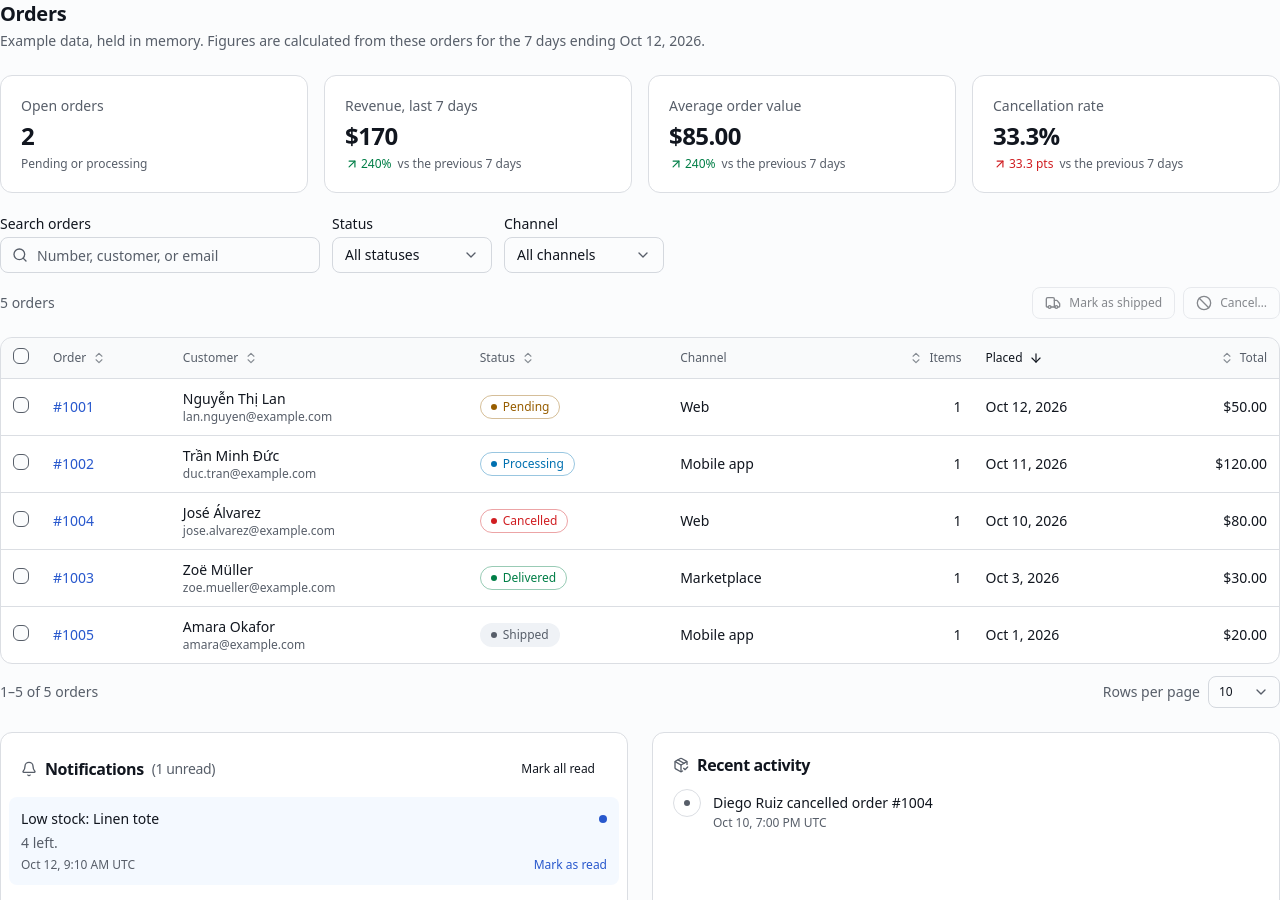
Scenario: OrdersDashboard › cancels only after confirmation, and keeps orders when dismissed
What coordinates should you click on to do the following:
click the checkbox named "Select order #1002"
I would click on:
 (21, 462)
Its box is [13,454,29,470].
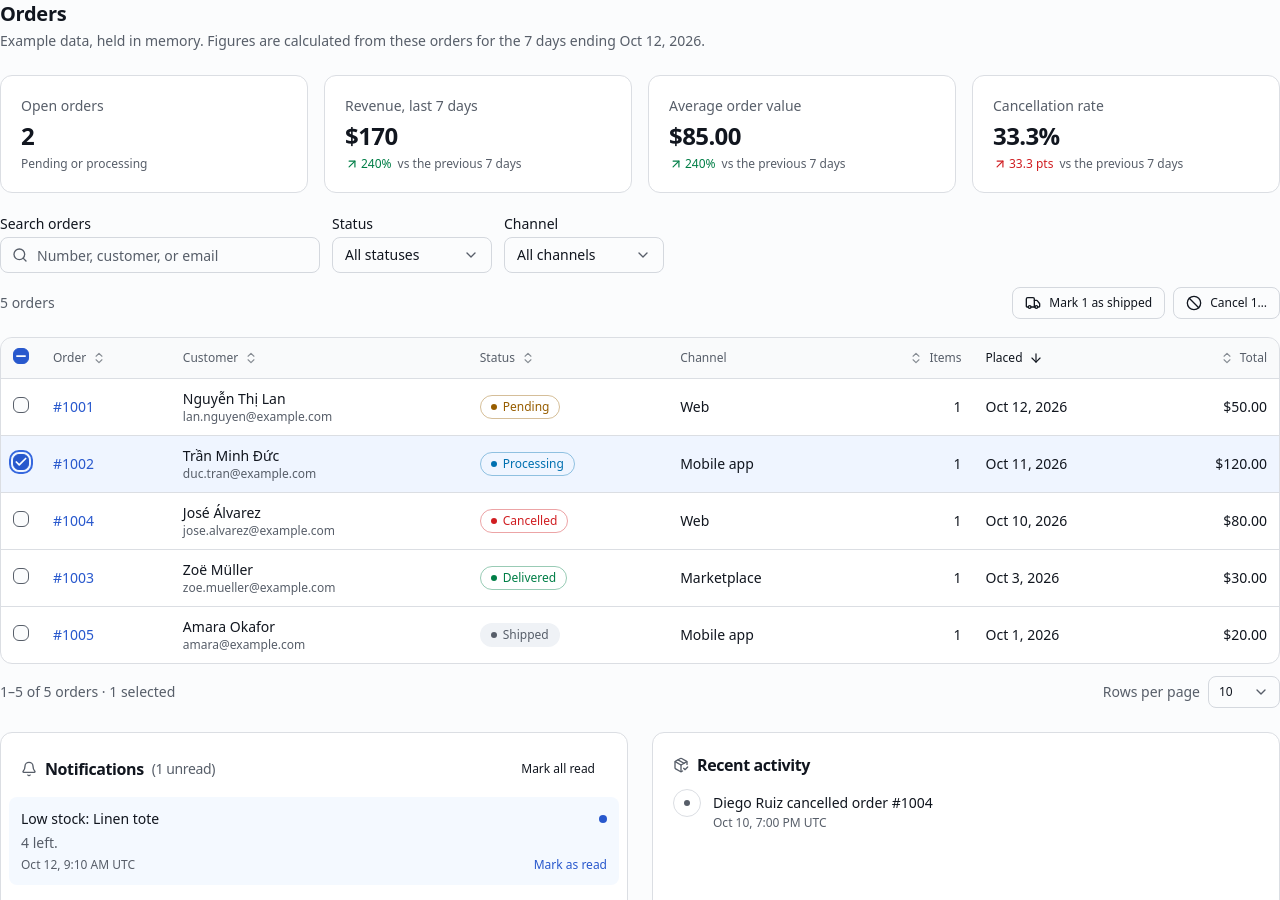
What coordinates should you click on to do the following:
click the button "Cancel 1…"
I would click on:
 (1227, 303)
Its box is [1173,287,1279,319].
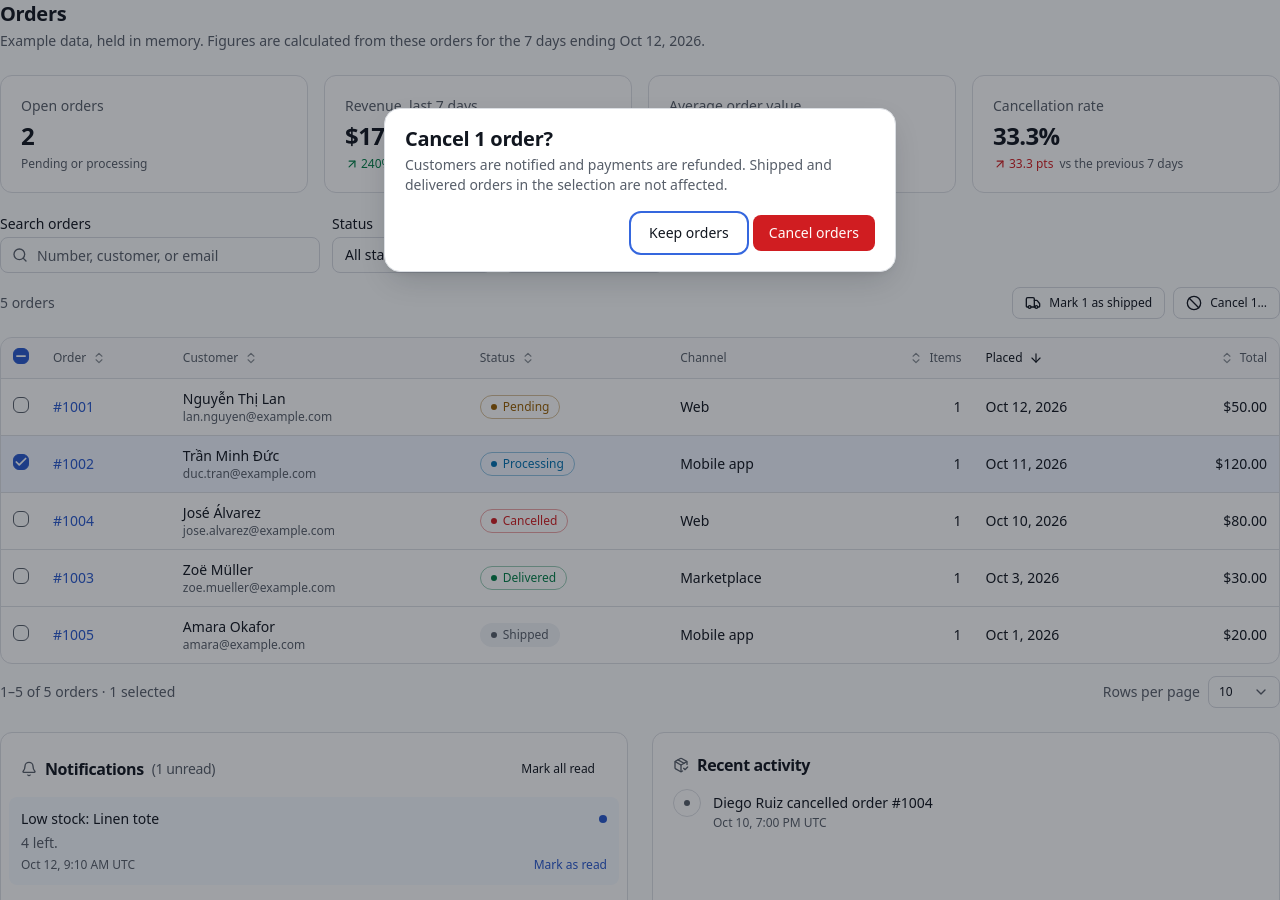
What coordinates should you click on to do the following:
click the button "Keep orders"
I would click on:
 (689, 233)
Its box is [633,215,745,251].
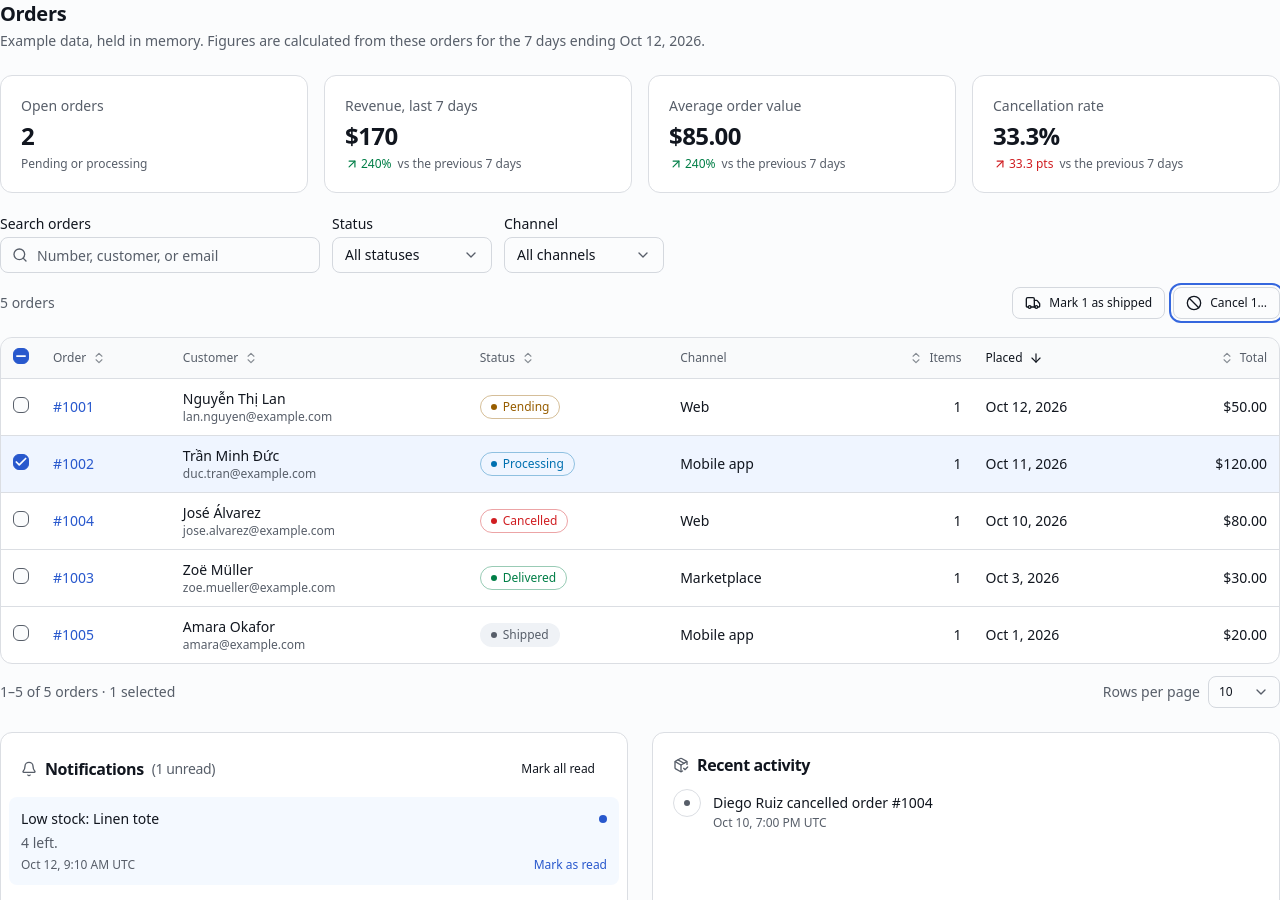
Expected: the row "#1002" shows "Processing", [503,454,564,472]
Expected: the dialog is gone
What coordinates should you click on to do the following:
click the button "Cancel 1…"
I would click on:
 (1227, 303)
Its box is [1173,287,1279,319].
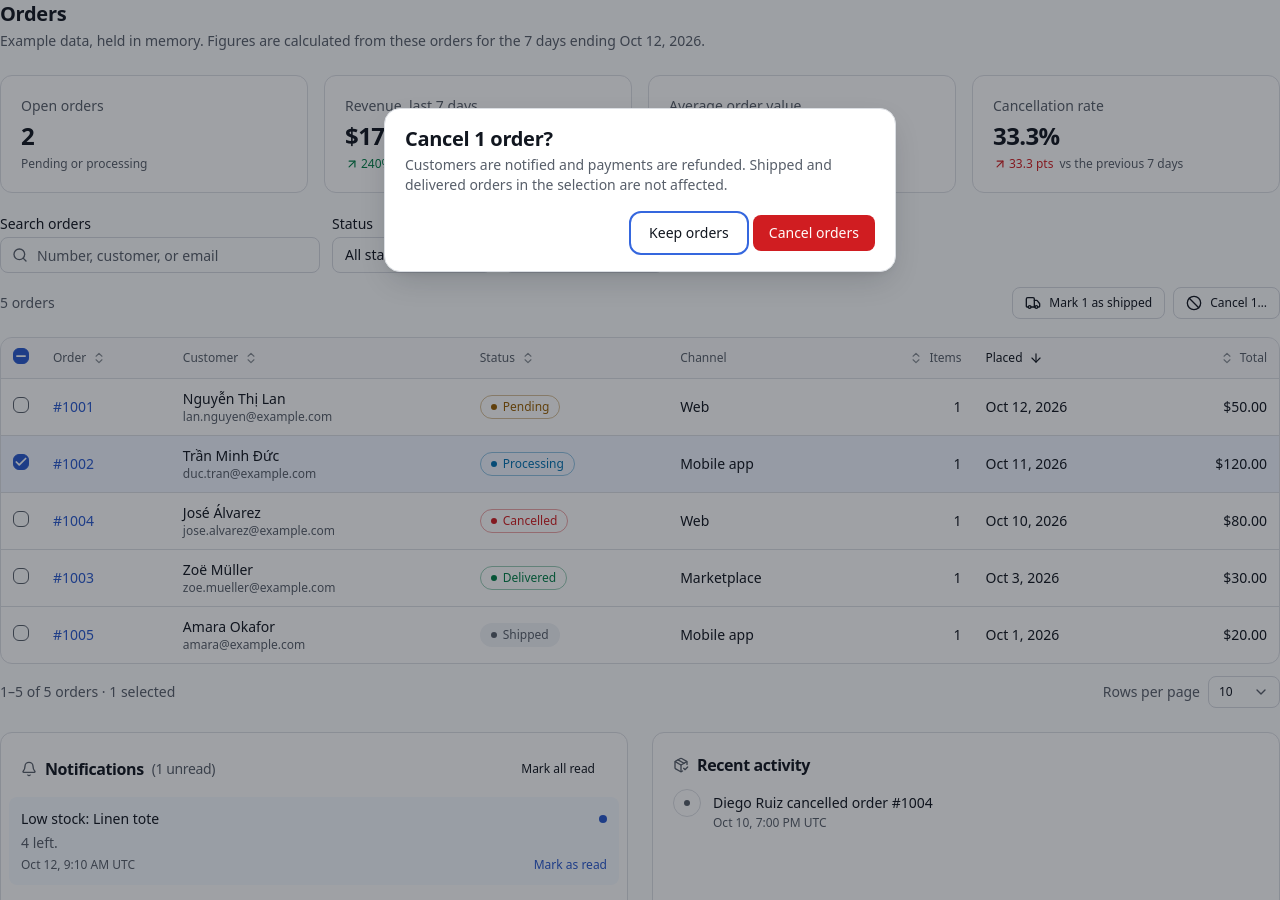
What coordinates should you click on to do the following:
click the button "Cancel orders"
I would click on:
 (814, 233)
Its box is [753,215,875,251].
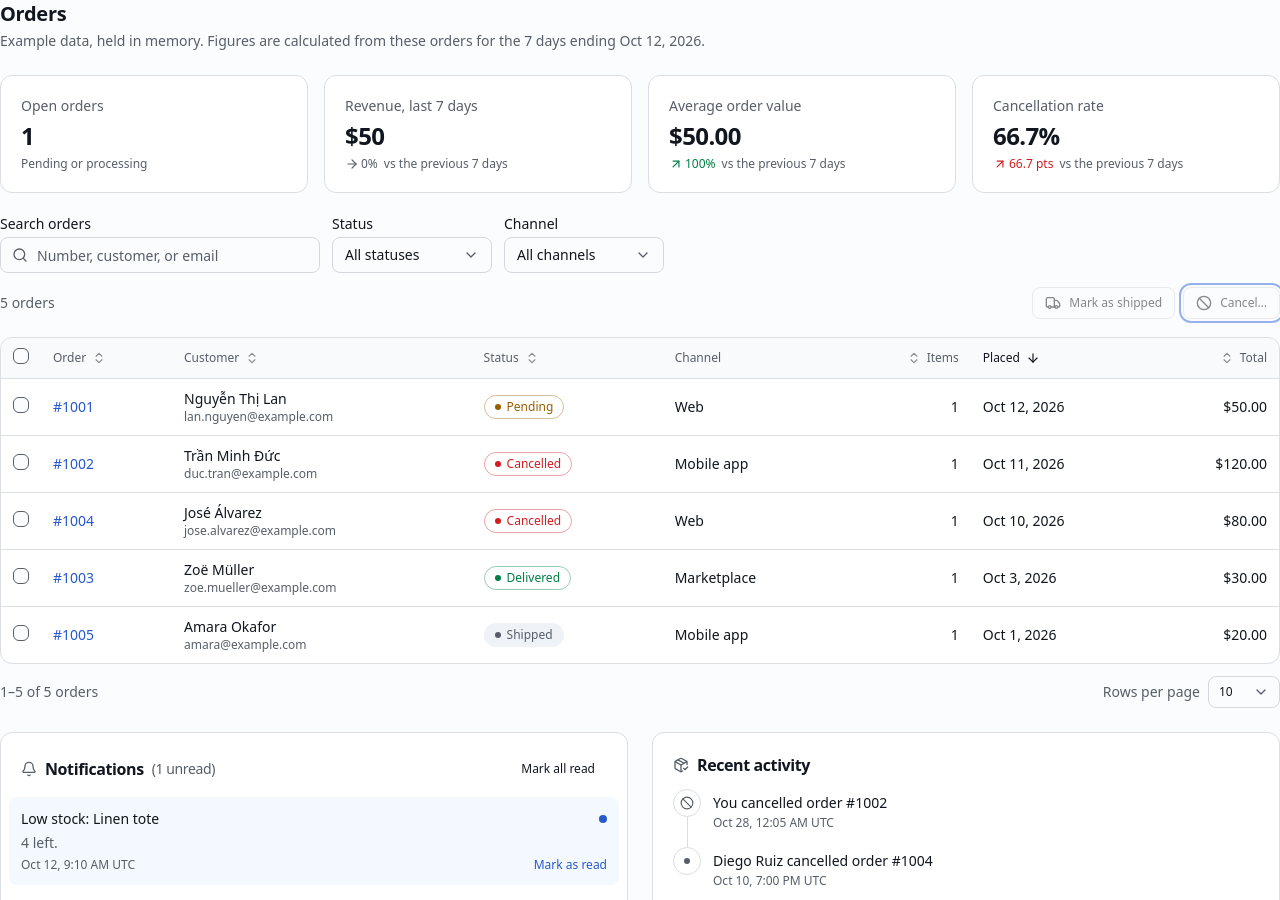
Expected: the dialog is gone
Expected: the row "#1002" shows "Cancelled", [507,454,561,472]
